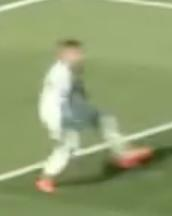goalkeeper: (29, 27, 172, 215)
